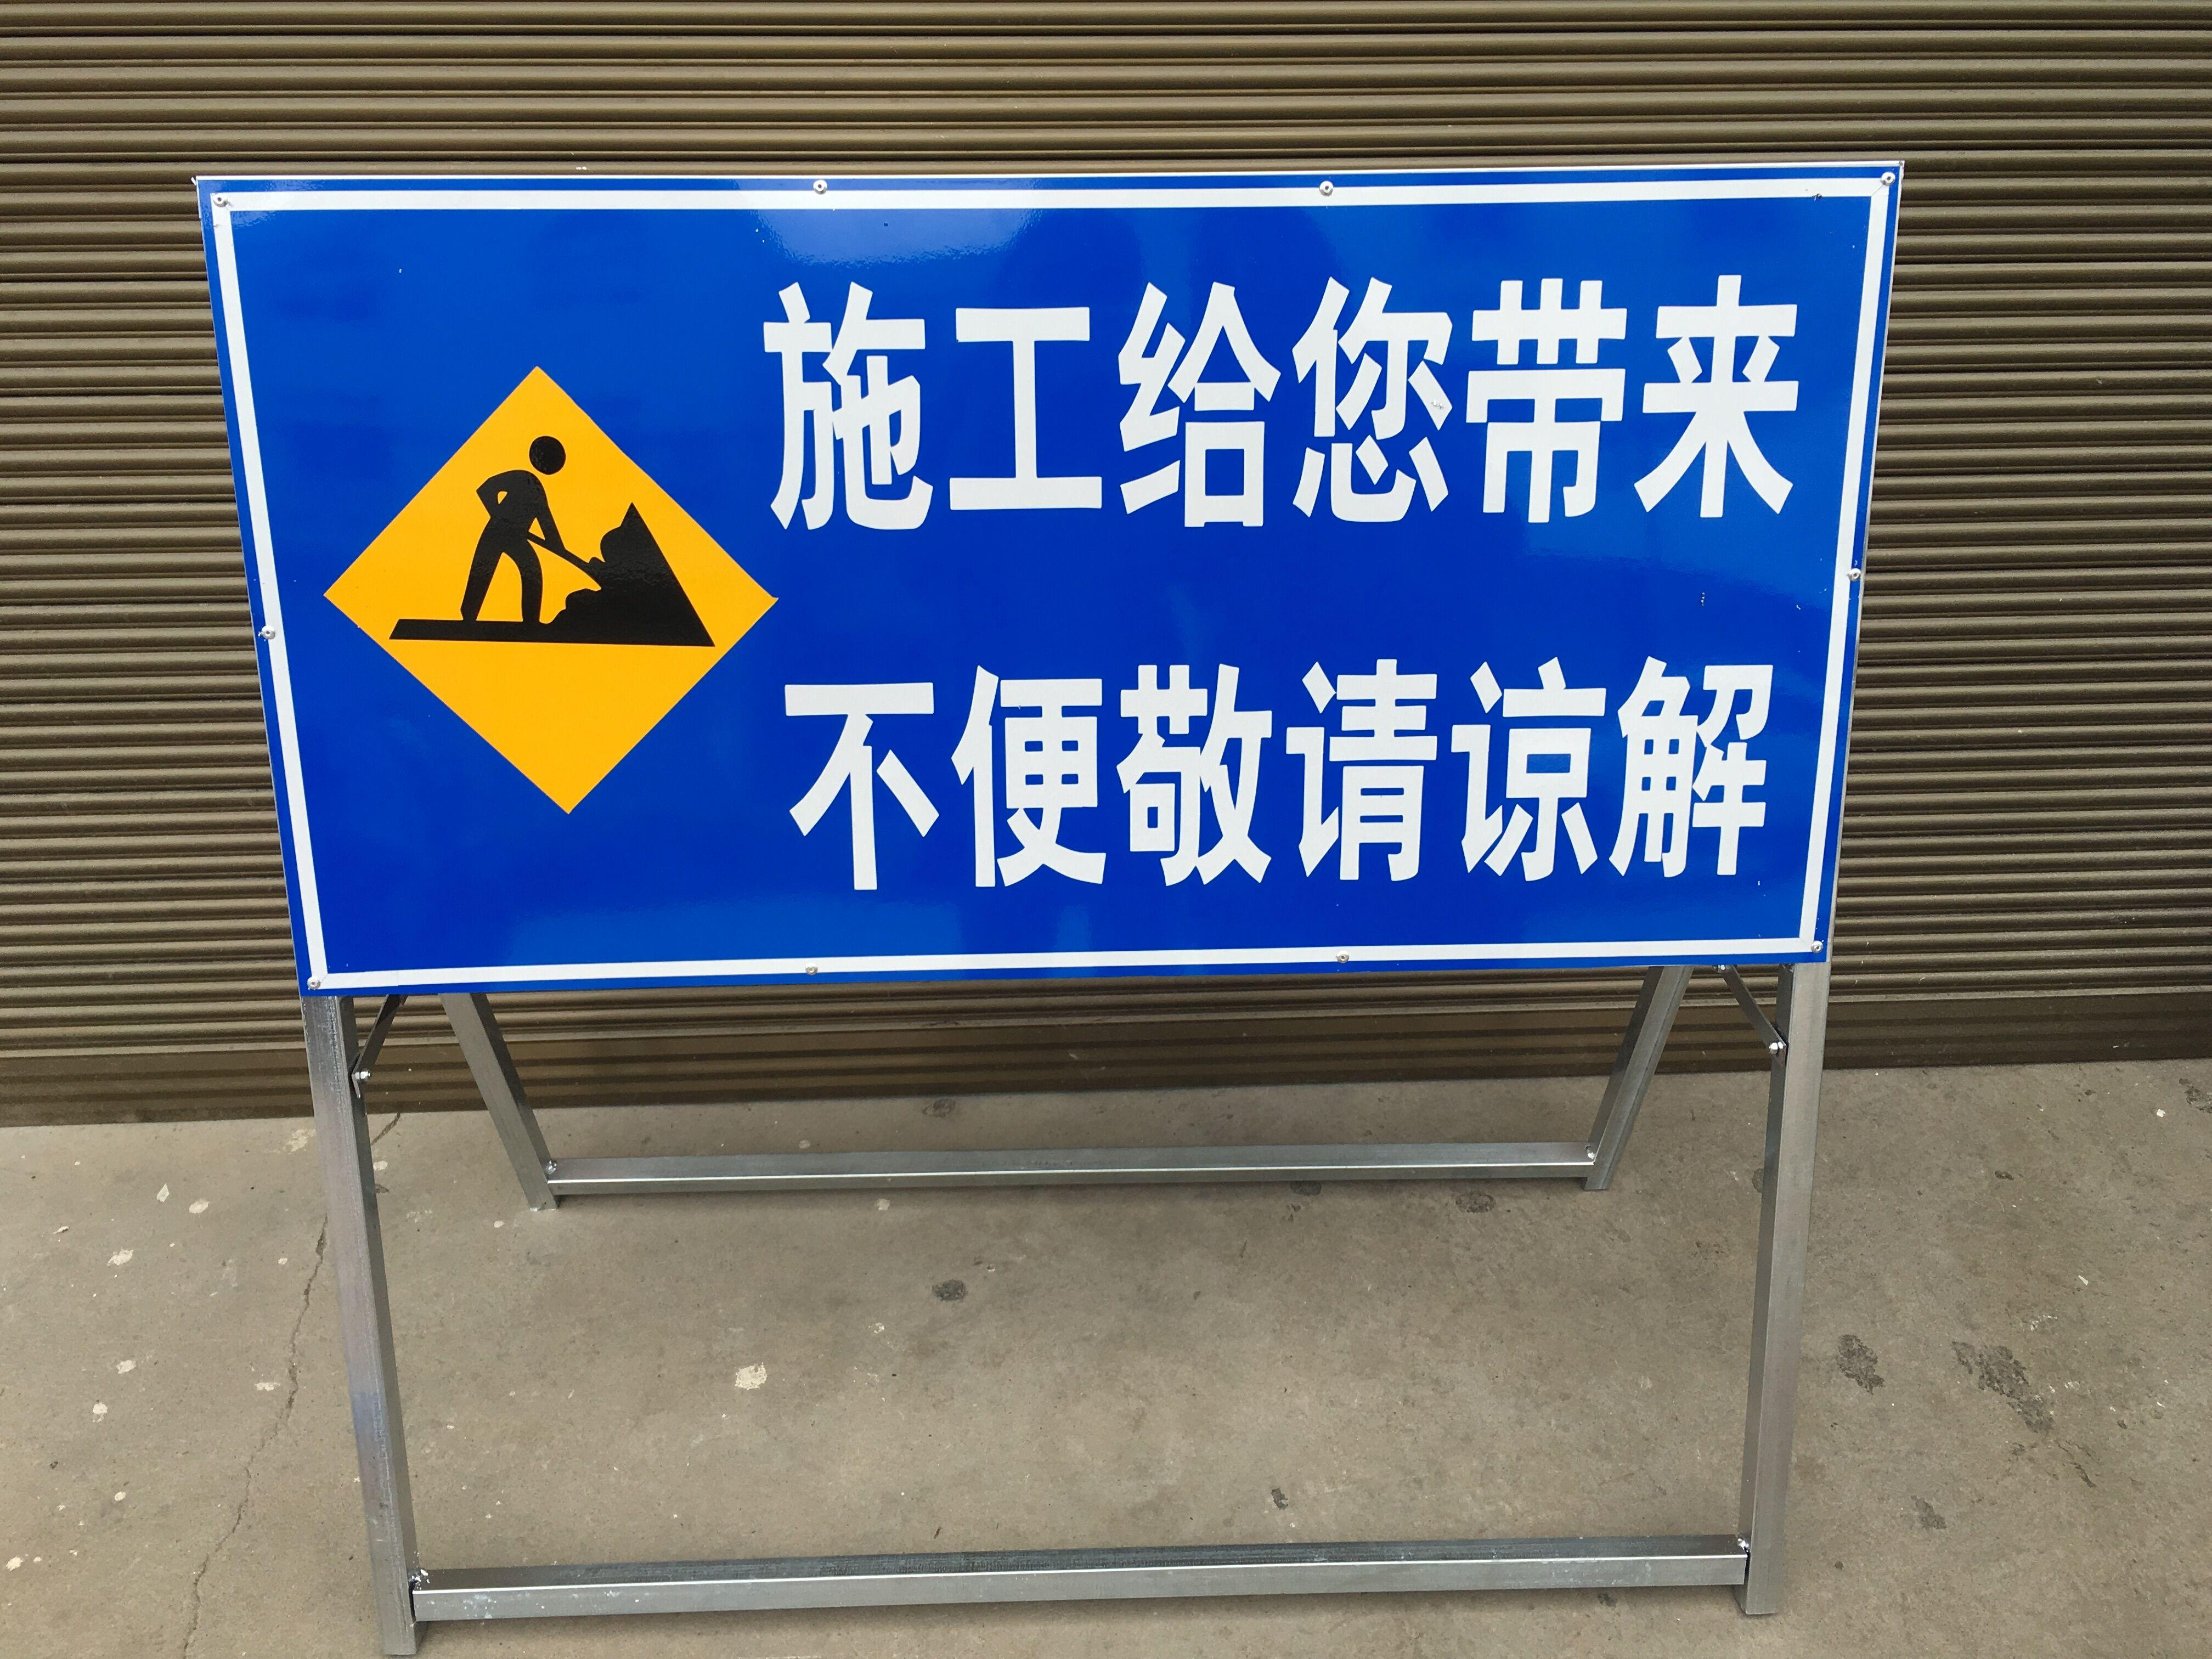sign: (209, 185, 1907, 974)
